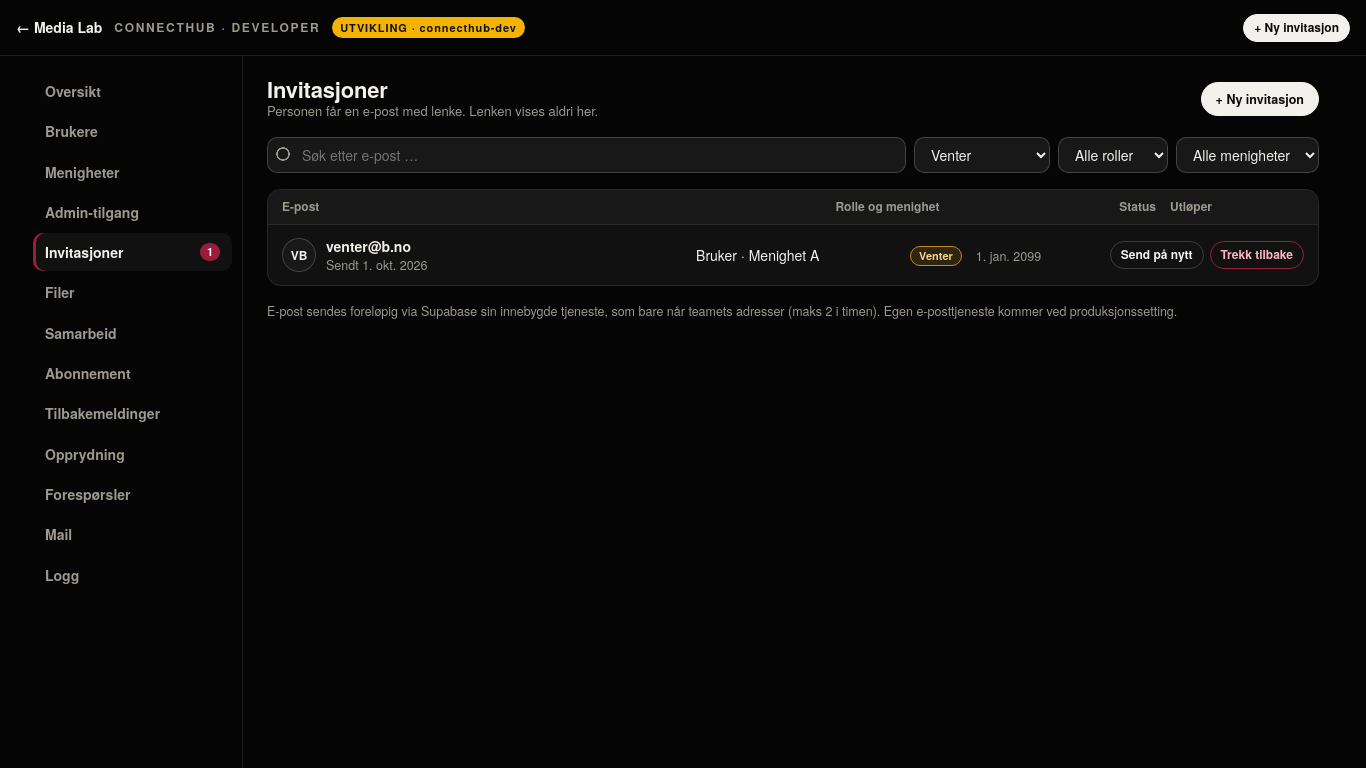
it: Invitasjoner (ADM-05) › ventende som standard, filter på status; send på nytt via serveren og varsel når e-posten ikke ble sendt
Expected: the text "venter@b.no" is shown, 326,236 -> 411,256
Expected: the text "utlopt@b.no" is not shown
Step 1. Select "Utløpt" in the dropdown named "Status" → (982, 155), box 914,137 -> 1050,173
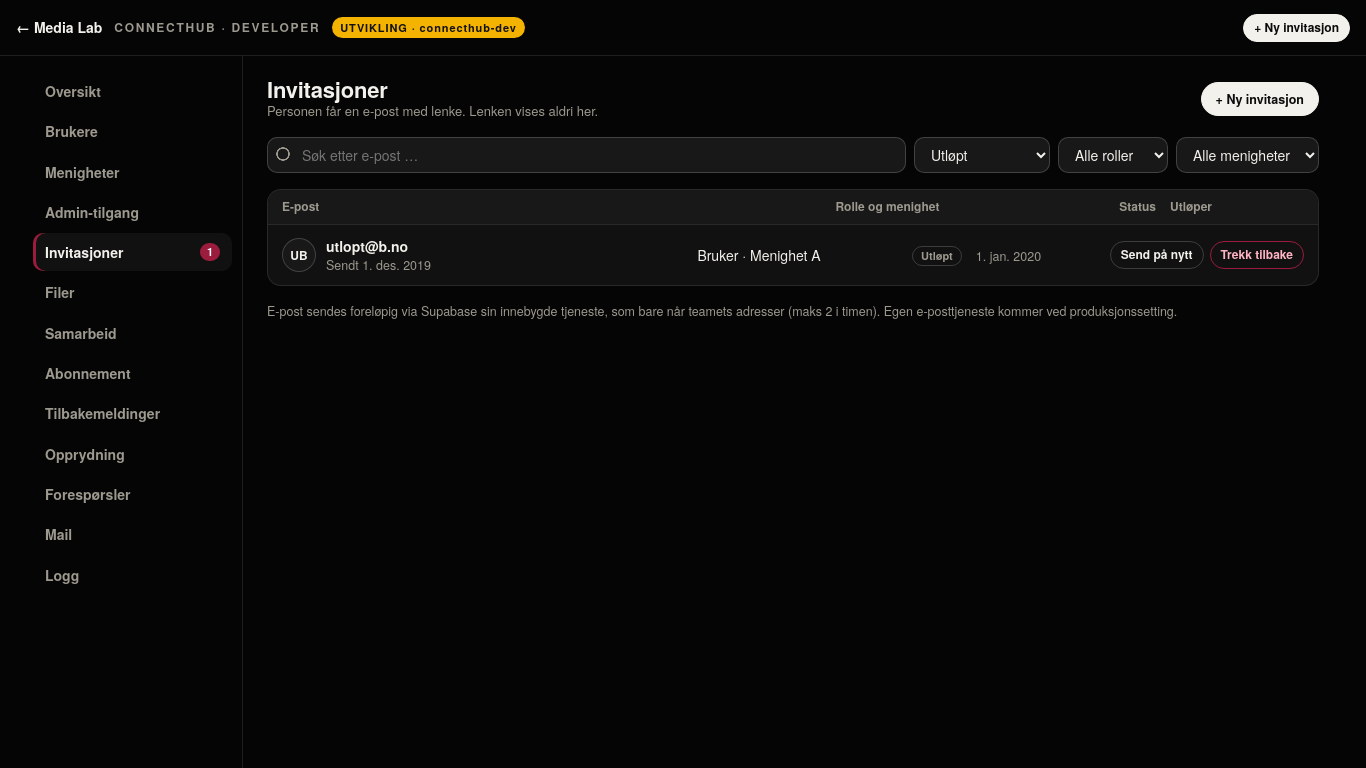
Expected: the text "utlopt@b.no" is shown, 326,236 -> 408,256
Step 2. Click the button "Send på nytt" → (1157, 255), box 1110,241 -> 1204,269
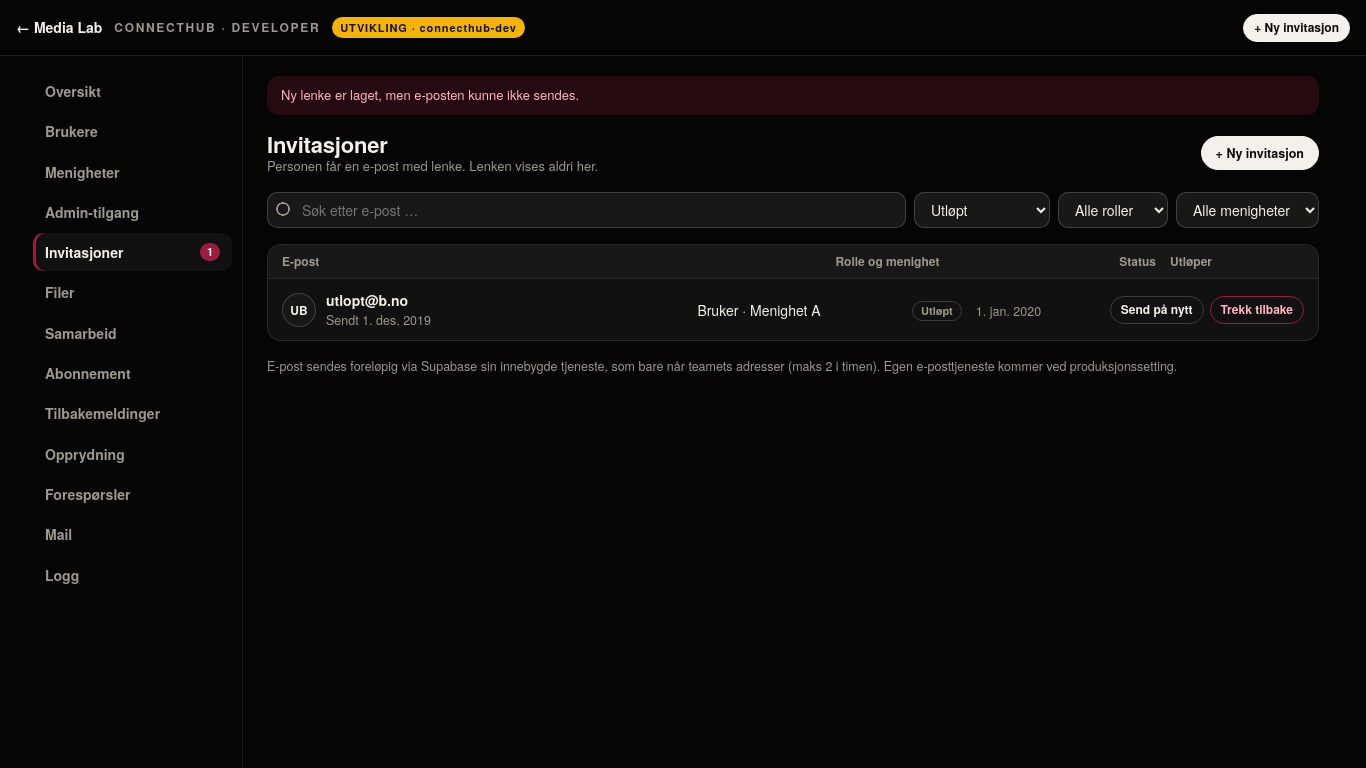
Expected: the message reads "Ny lenke er laget, men e-posten kunne ikke sendes.", 281,85 -> 579,104
